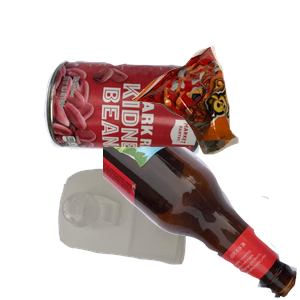glass: (103, 147, 300, 300)
metal: (41, 58, 240, 207)
plastic: (56, 166, 241, 300)
trash: (130, 43, 300, 190)
